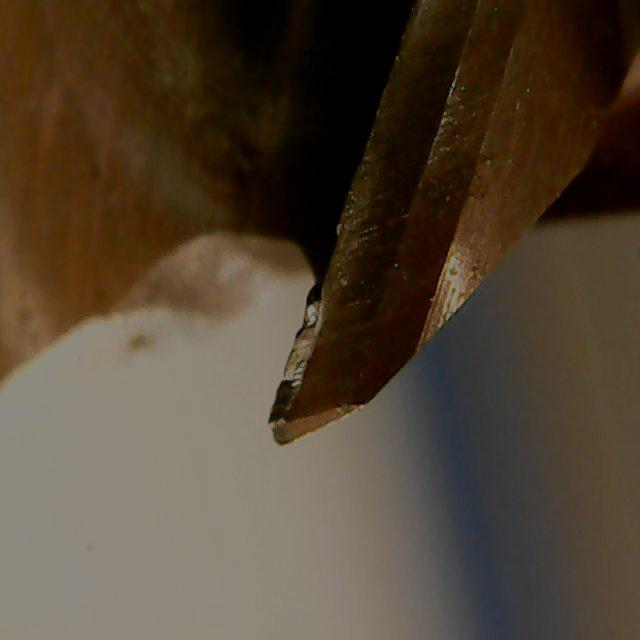Tool-wear-class-1: (241, 203, 390, 467)
